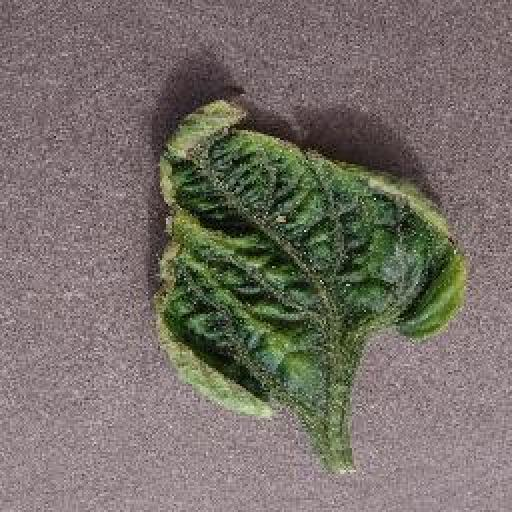Yellow Leaf Curl Virus: (154, 88, 464, 419)
